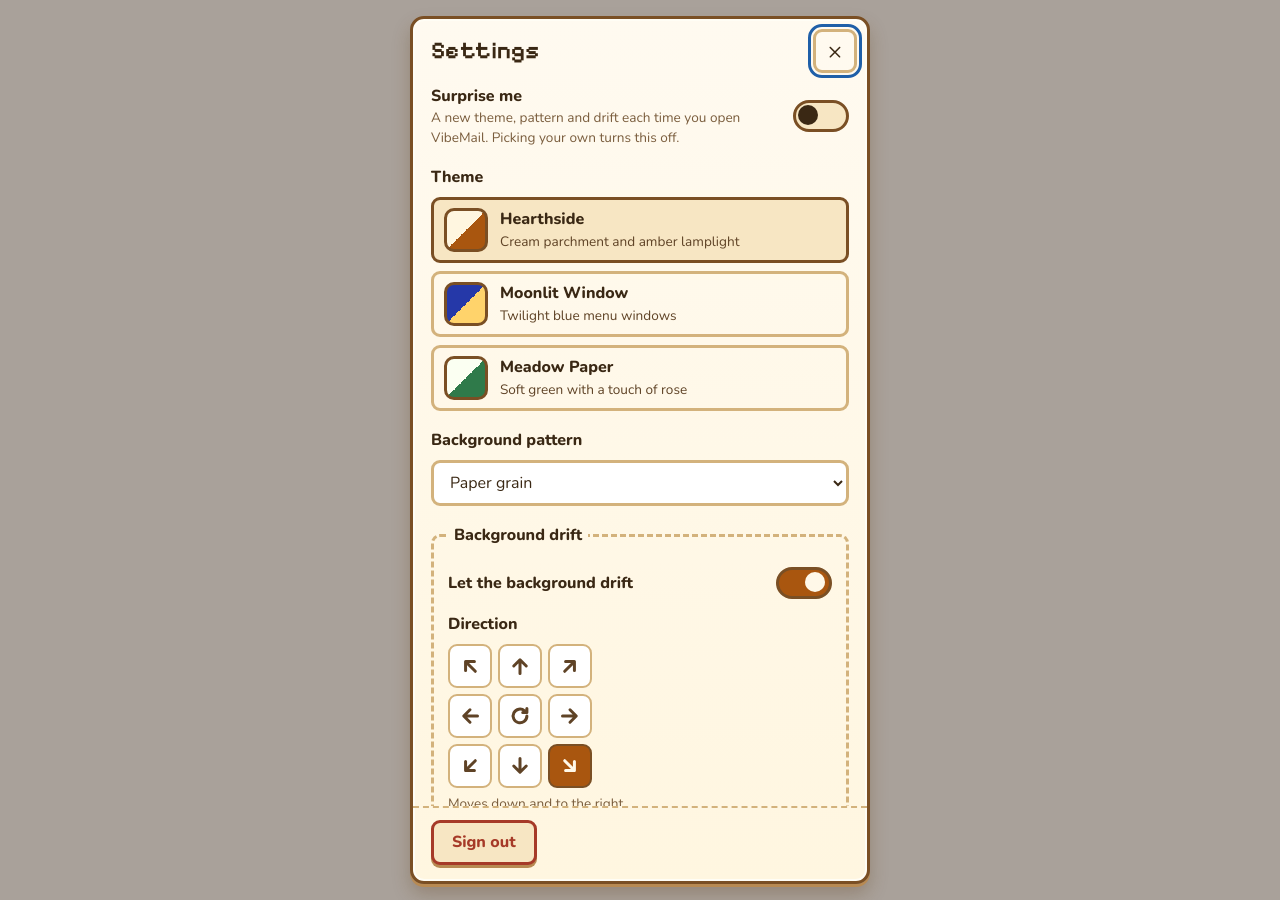
Scenario: Settings: background drift › saves a new direction
The image size is (1280, 900).
Click the radio button named "Drift up and to the left".
click(470, 666)  # box [448, 644, 492, 688]
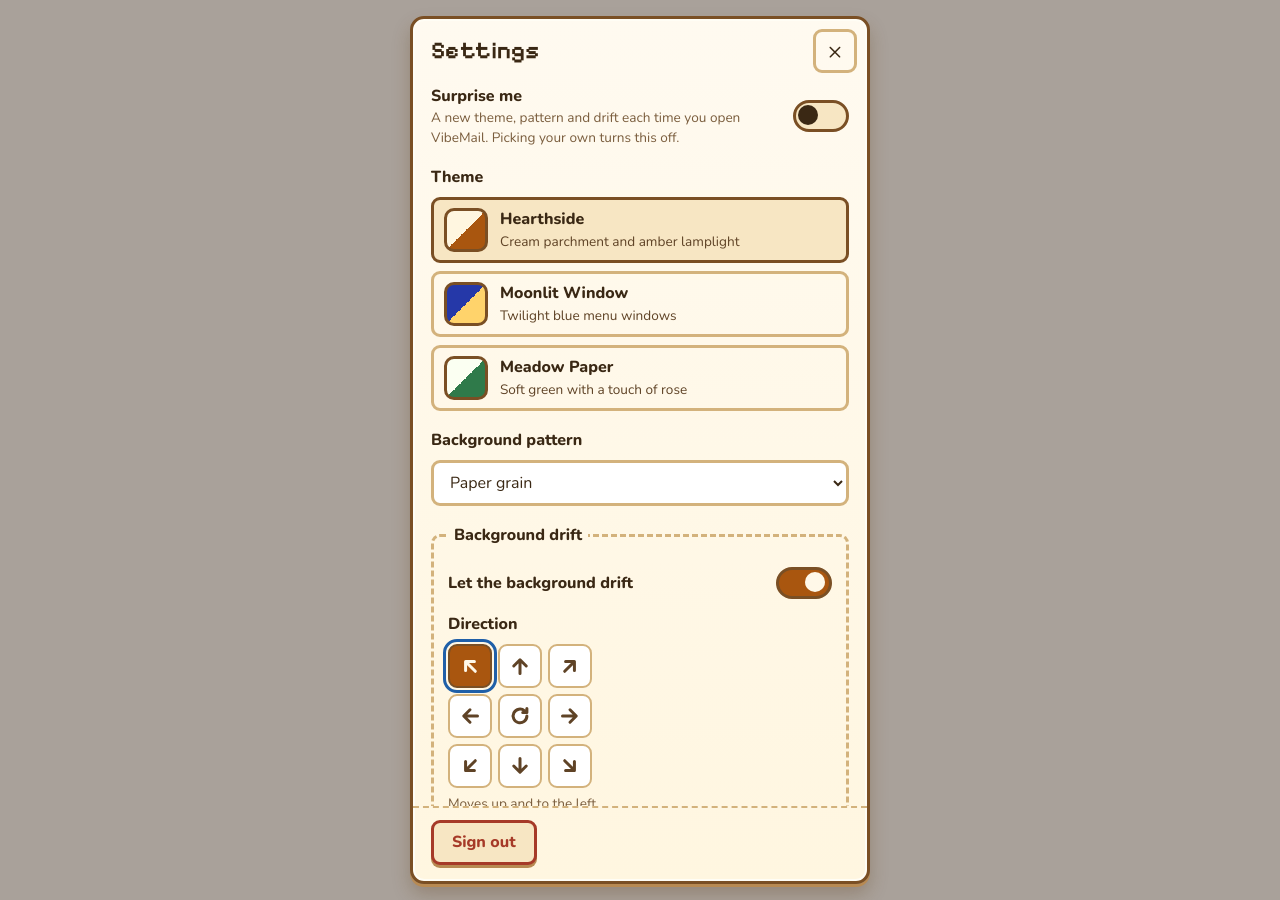
Check: the radio button named "Drift up and to the left" is checked, box [448, 644, 492, 688]
Check: the text "Moves up and to the left." is shown, box [448, 794, 599, 806]
